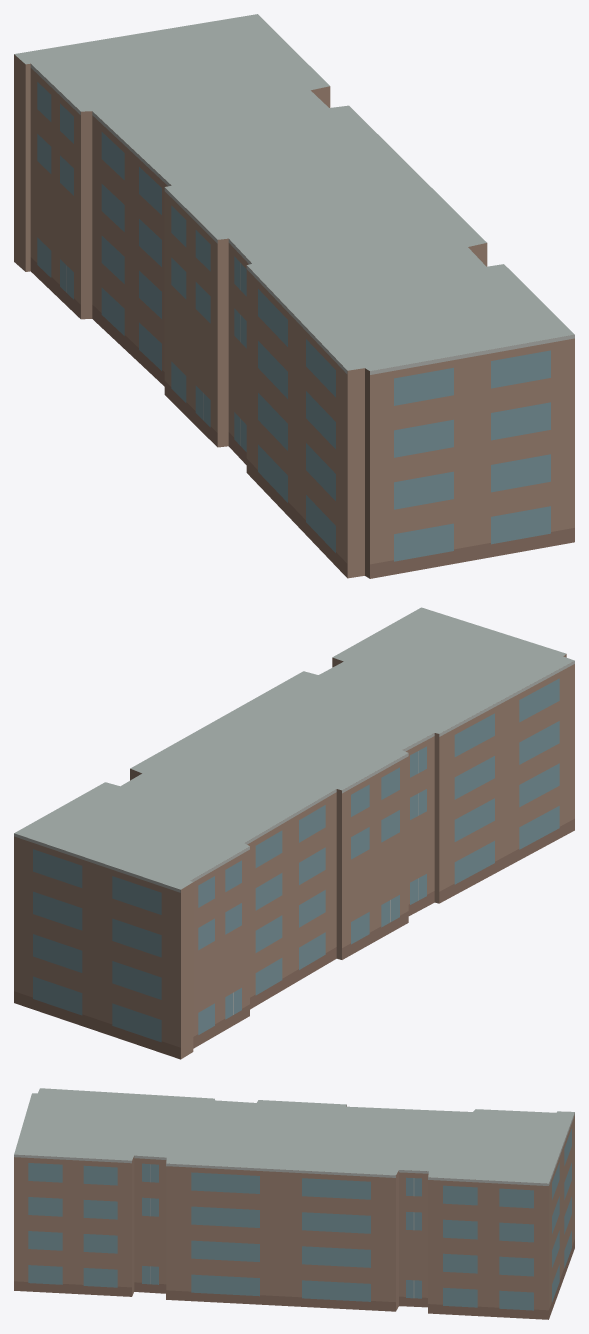
Rendered from survey-upis-32632079.glb.
3 renders of one model, top to bottom at view 1: azimuth 30°, elevation 25°; view 2: azimuth 150°, elevation 25°; view 3: azimuth 270°, elevation 25°, orthographic. The views are drawn at different scales.
Parts seen in each view (by area): view 1: survey-upis-32632079.tmp; view 2: survey-upis-32632079.tmp; view 3: survey-upis-32632079.tmp.
Boxes of the visible parts, box(x1,y1,x2,y2) form: survey-upis-32632079.tmp: box(14, 14, 574, 578); survey-upis-32632079.tmp: box(14, 607, 574, 1059); survey-upis-32632079.tmp: box(14, 1088, 574, 1319).
Size of the model in its own units: 19.7 by 13.1 by 48.9.
